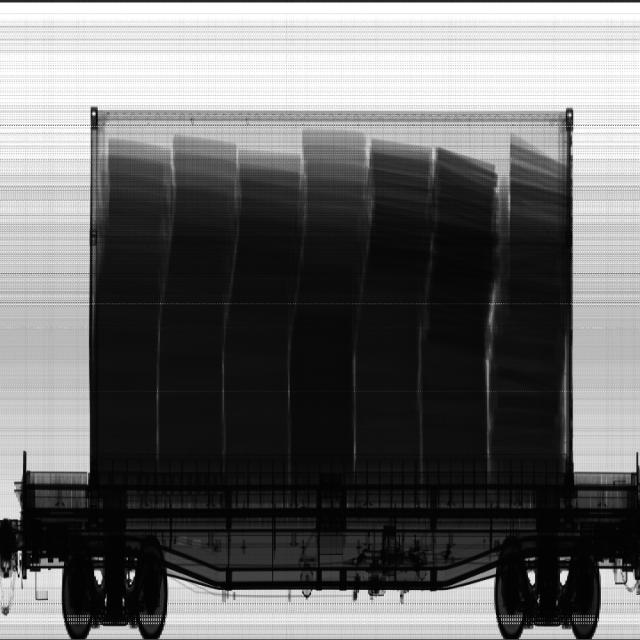fabrics: (100, 129, 611, 454)
